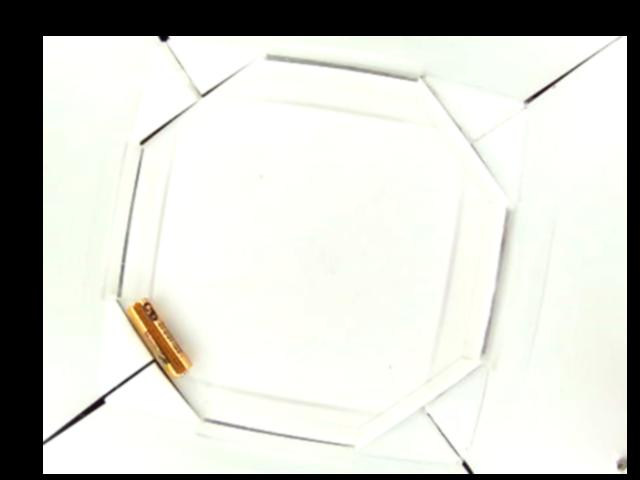Battery: (127, 298, 190, 377)
